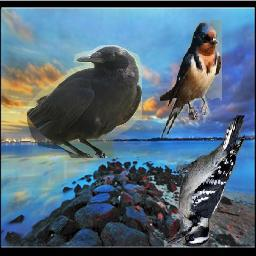Crow: (28, 46, 143, 159)
Swallow: (160, 21, 222, 140)
Woodpecker: (167, 114, 246, 249)
